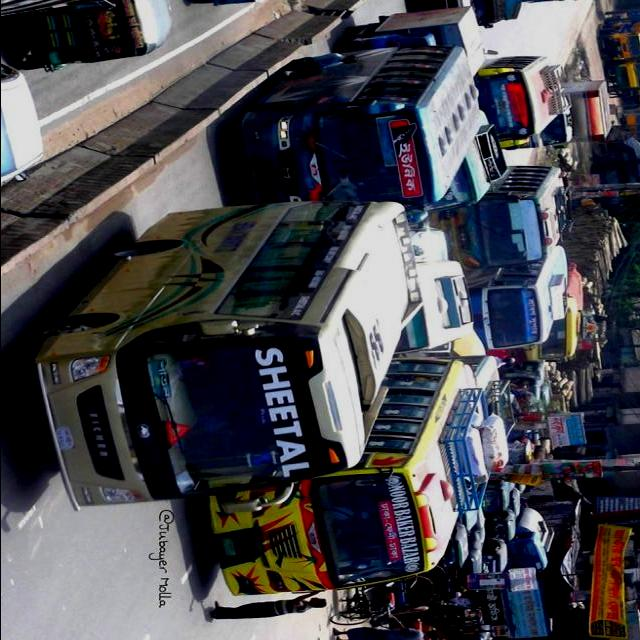bus: (25, 201, 428, 516), (206, 358, 513, 598), (237, 47, 483, 227)
